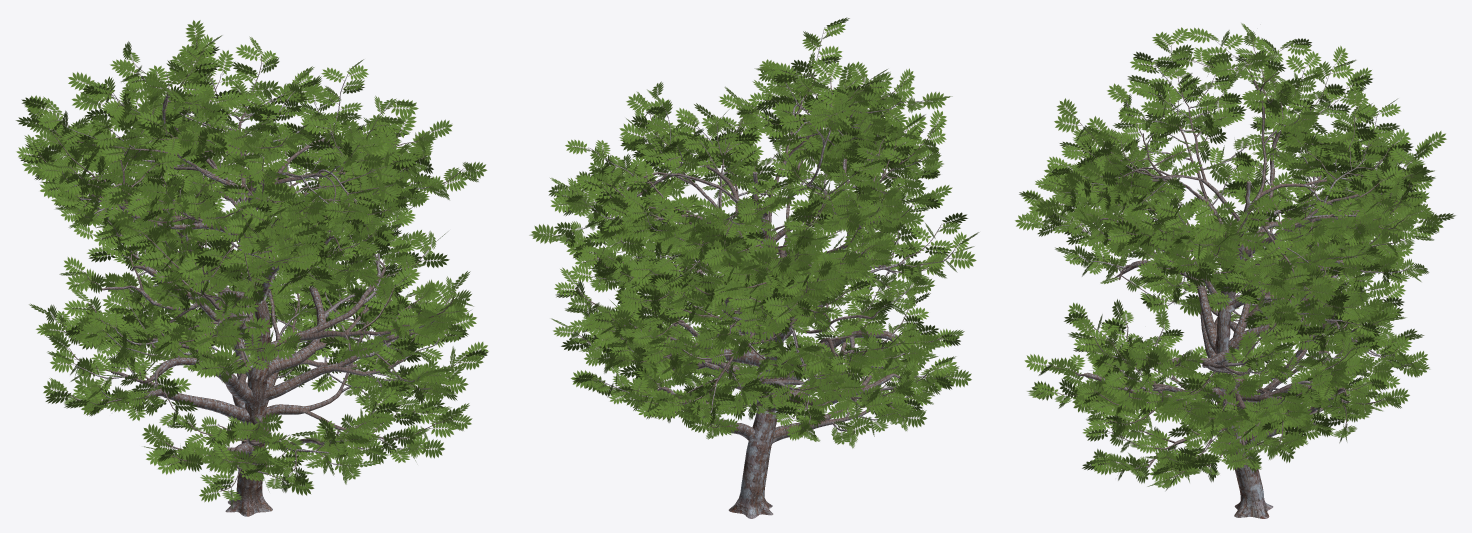
The model's file is Cynometra_inaequifolia.glb.
3 views of the same model, side by side, from view 1: azimuth 30°, elevation 25°; view 2: azimuth 150°, elevation 25°; view 3: azimuth 270°, elevation 25° (orthographic). The views are drawn at different scales.
Visible parts, largest first — view 1: Palaquium_philippense; view 2: Palaquium_philippense; view 3: Palaquium_philippense.
Boxes of the visible parts, bbox=[...] form: Palaquium_philippense: bbox=[16, 20, 488, 516]; Palaquium_philippense: bbox=[529, 17, 979, 518]; Palaquium_philippense: bbox=[1015, 23, 1455, 518].
Size of the model in its own units: 13.32 by 14.79 by 13.4.
Materials: 2 (2 with a texture image).
